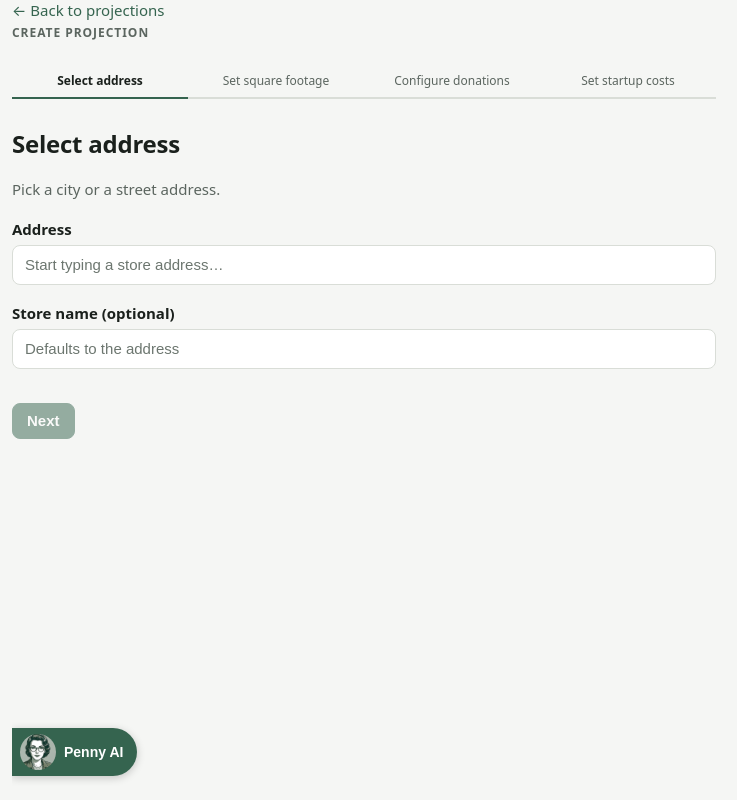
Test: CreateProjectionPage — Generate failure surfaces an alert w/ retry (audit P0, Task 2.5) › a network rejection renders the same alert + Retry, never navigates
This screenshot has width=737, height=800.
In the dropdown labelled "Address": (364, 265) [12,245,716,285], type "Dallas"
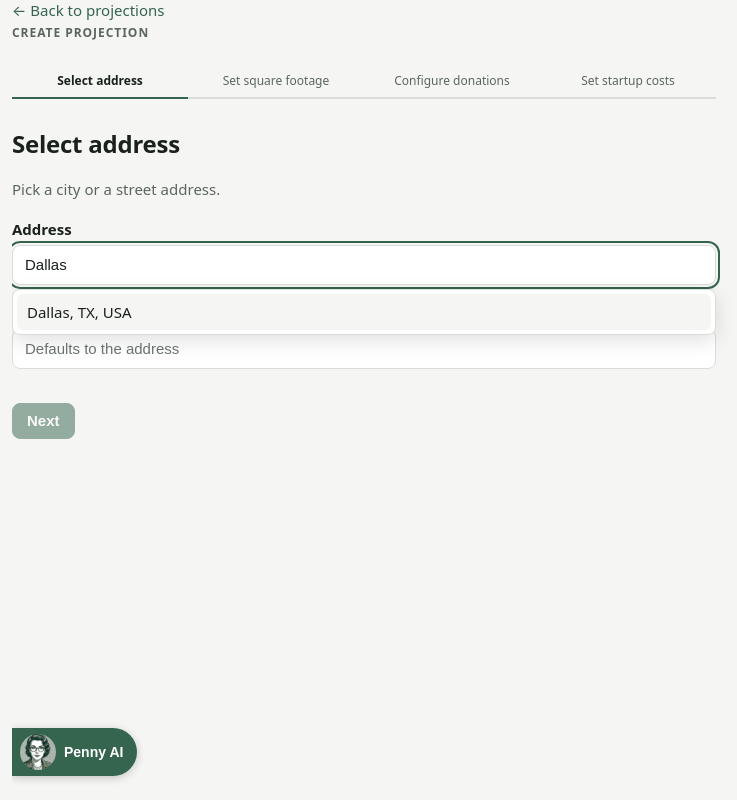
Click the option "Dallas, TX, USA": (79, 312) [17,294,711,330]
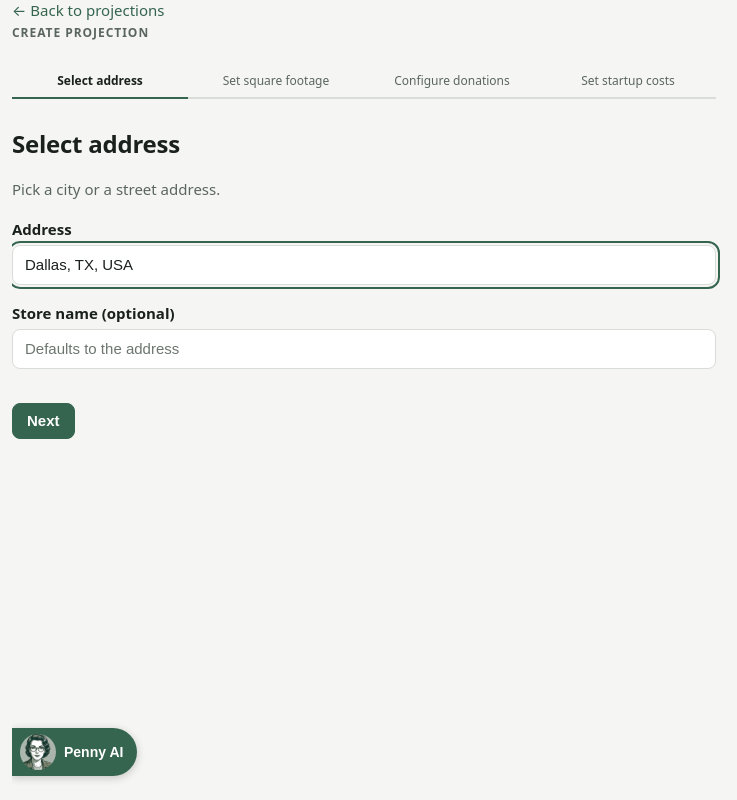
Expected: the button "Next" is enabled
Click the button "Next": (43, 421) [12,403,74,439]
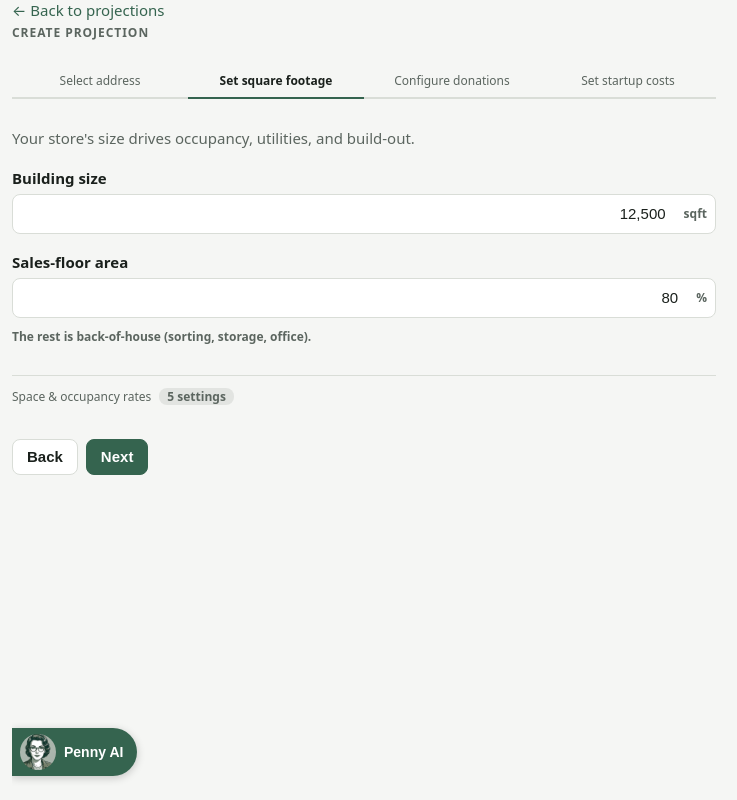
Click the button "Next": (117, 457) [86,439,148,475]
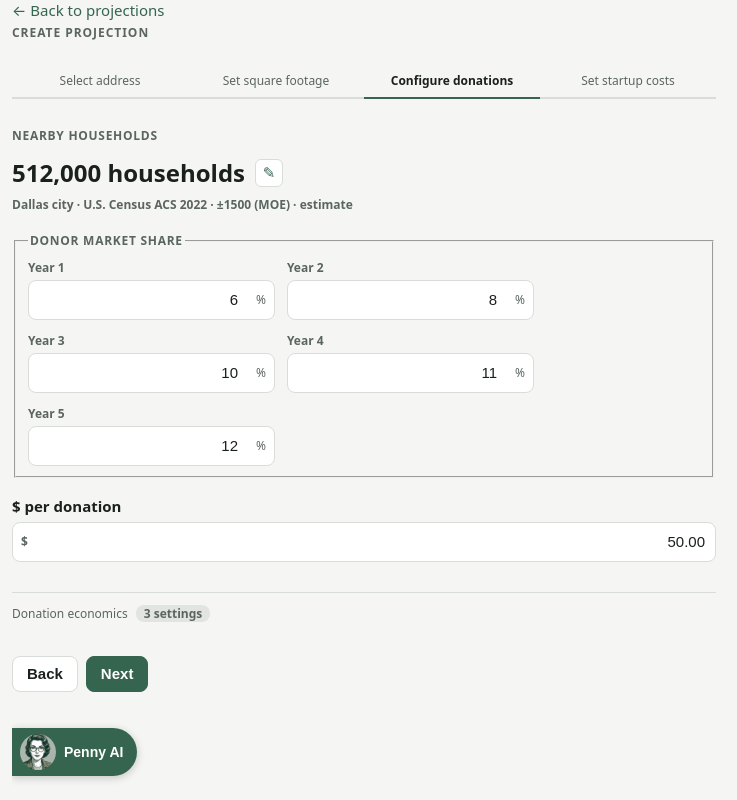
Click the button "Next": (117, 674) [86,656,148,692]
(page scrolled)
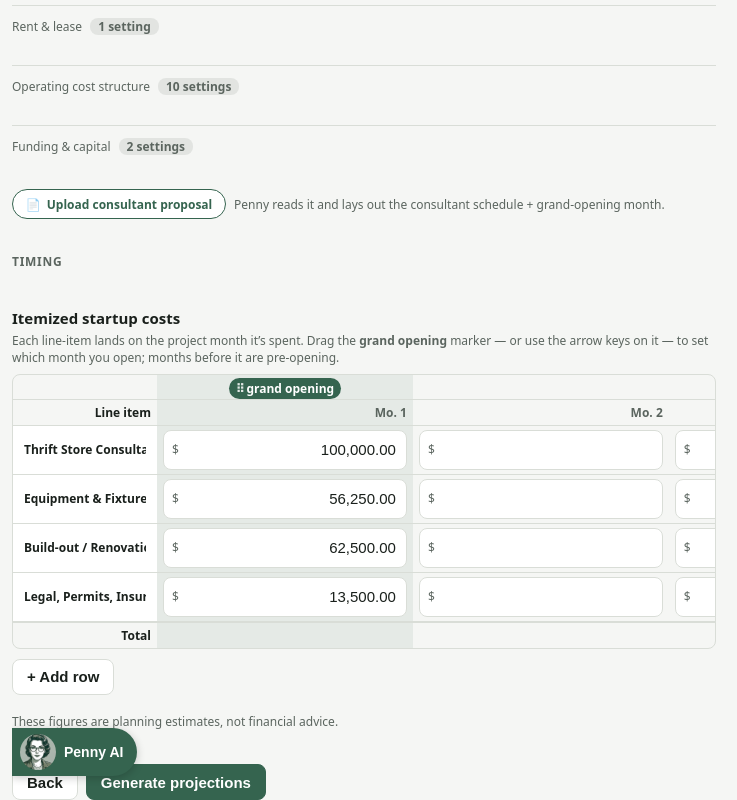
Click the button "Generate projections": (176, 782) [86,764,266,799]
(page scrolled)
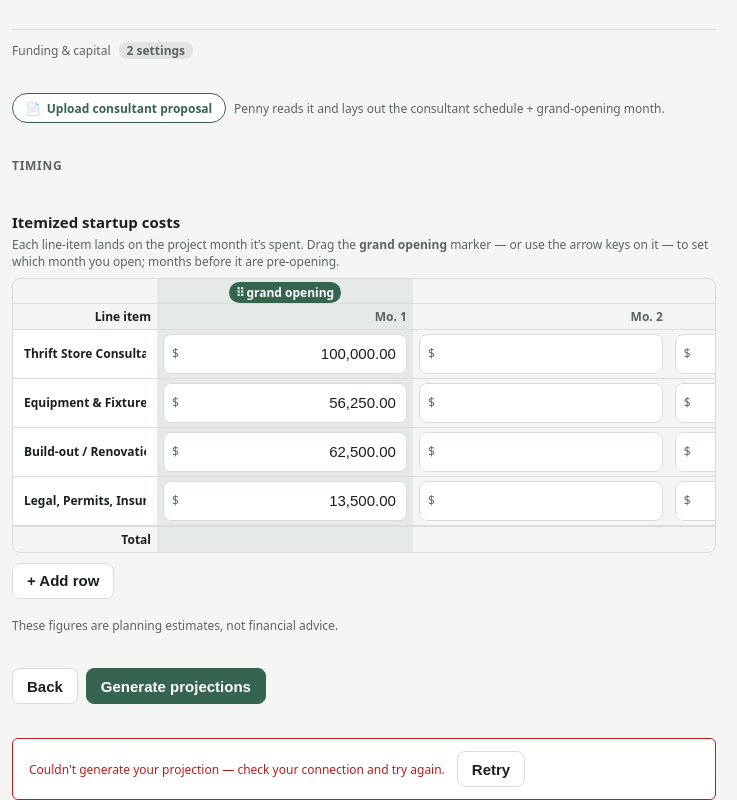
Expected: the button "Retry" is shown, [457,751,525,787]
